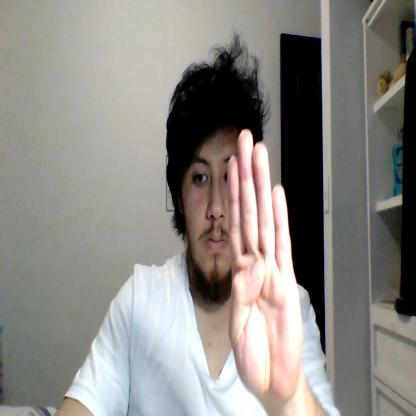B: (229, 129, 303, 400)
